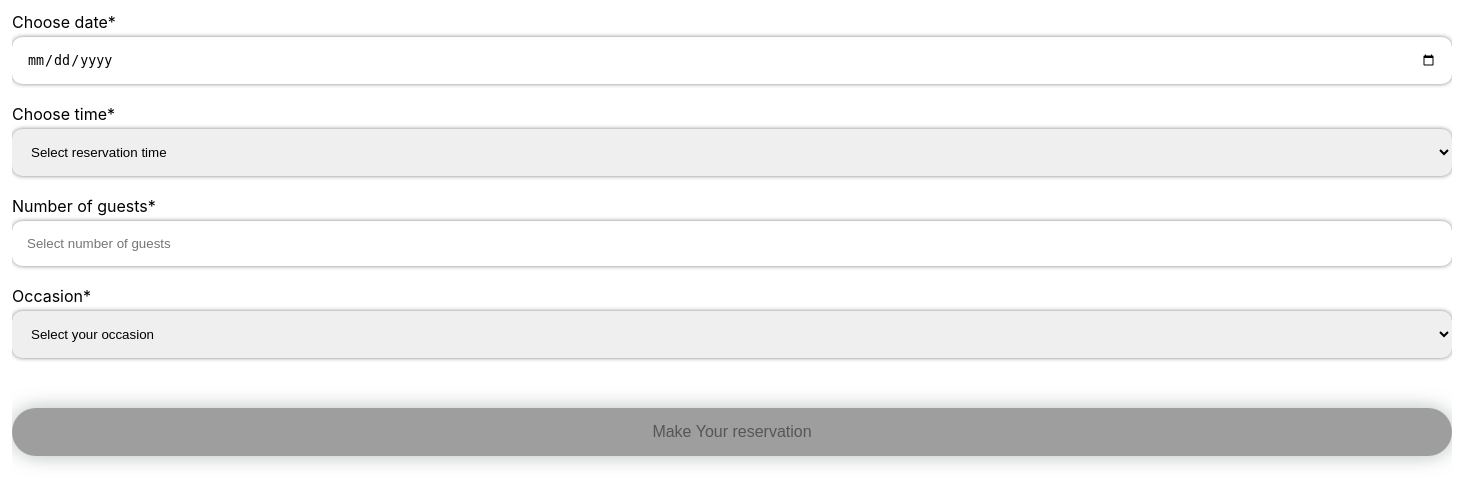
Test: submit button shoud not be disable after all required field have a value
Type "3" into the number field labelled "Number of guests*".
click(732, 244); type("3")  # box [12,221,1452,266]
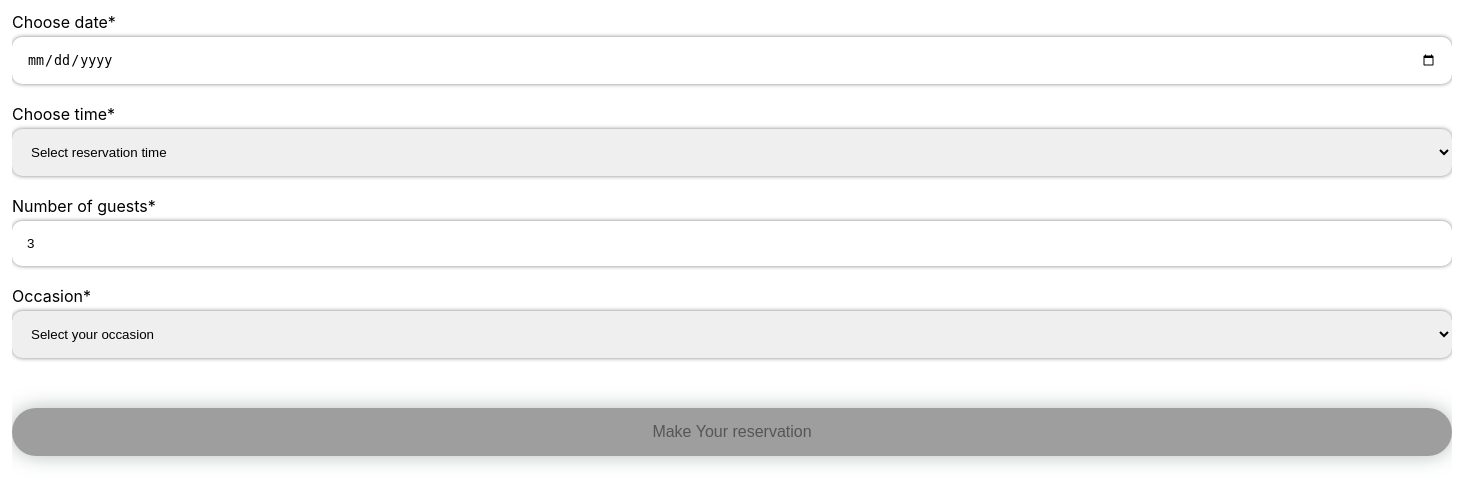
Select "Birthday" in the dropdown labelled "Occasion*" at (732, 335), box [12,311,1452,358]
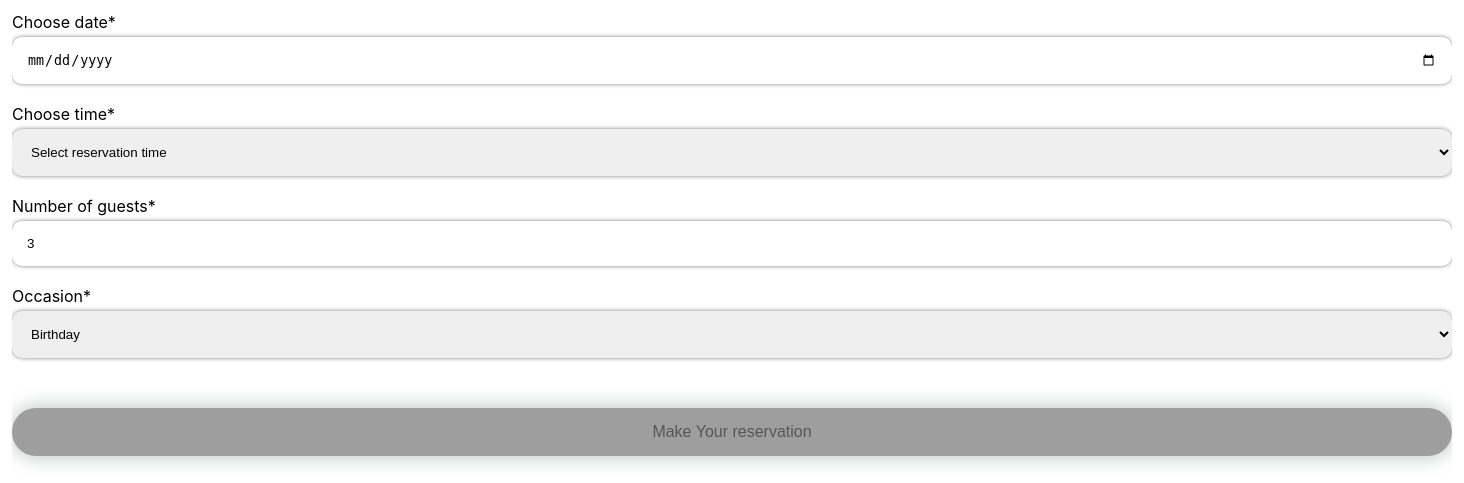
Press the mouse on the date field labelled "Choose date*" at (732, 61), box [12,37,1452,84]
Type "2020-01-15" into the date field labelled "Choose date*".
click(732, 61); type("2020-01-15")  # box [12,37,1452,84]
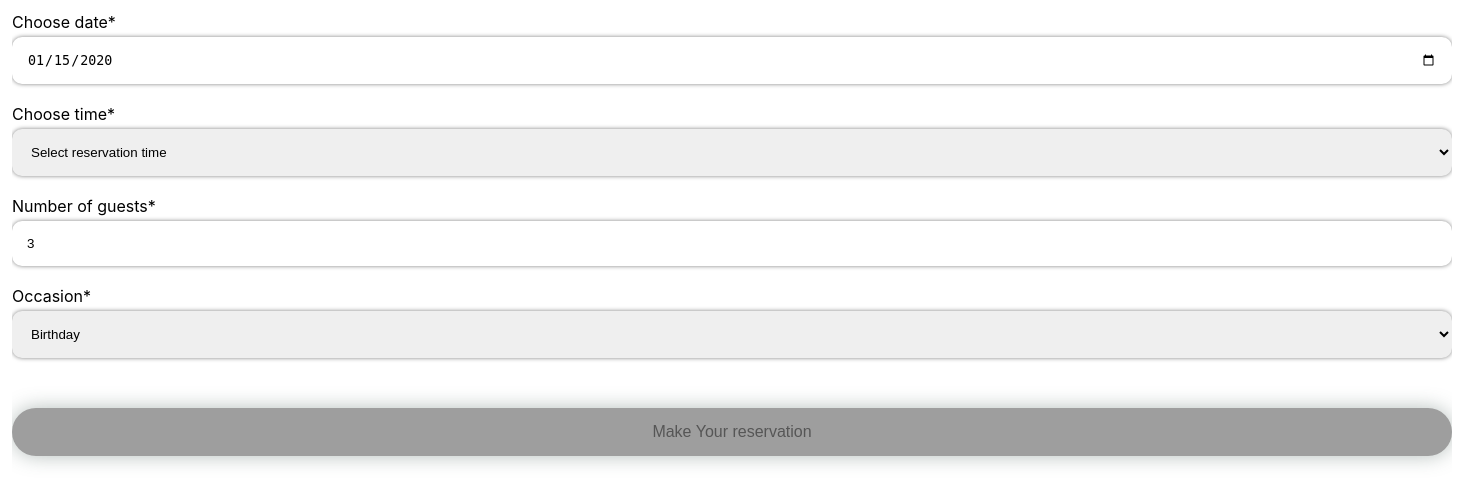
Select "12:00" in the dropdown labelled "Choose time*" at (732, 153), box [12,129,1452,176]
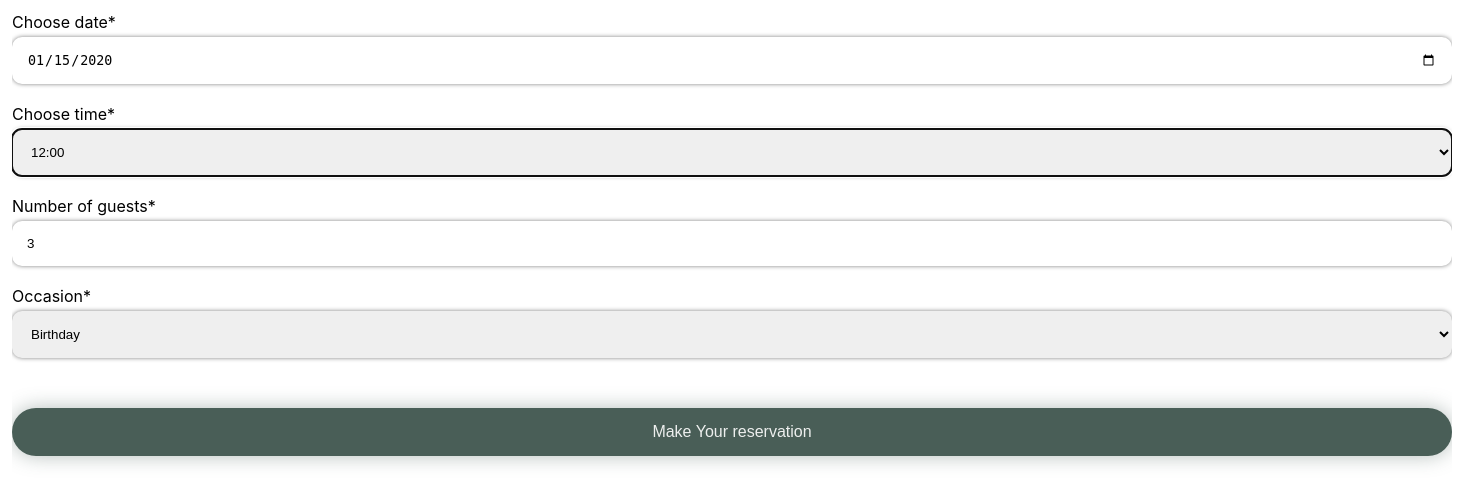
Expected: the button "Make Your reservation" is enabled, [12,408,1452,456]
